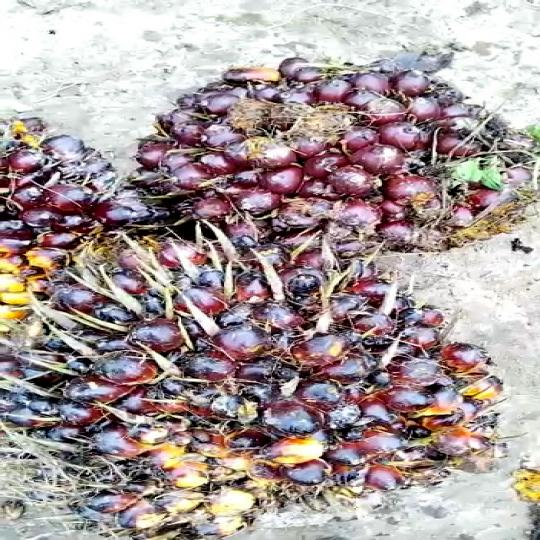kurang masak: (0, 244, 516, 537), (133, 36, 540, 255)
